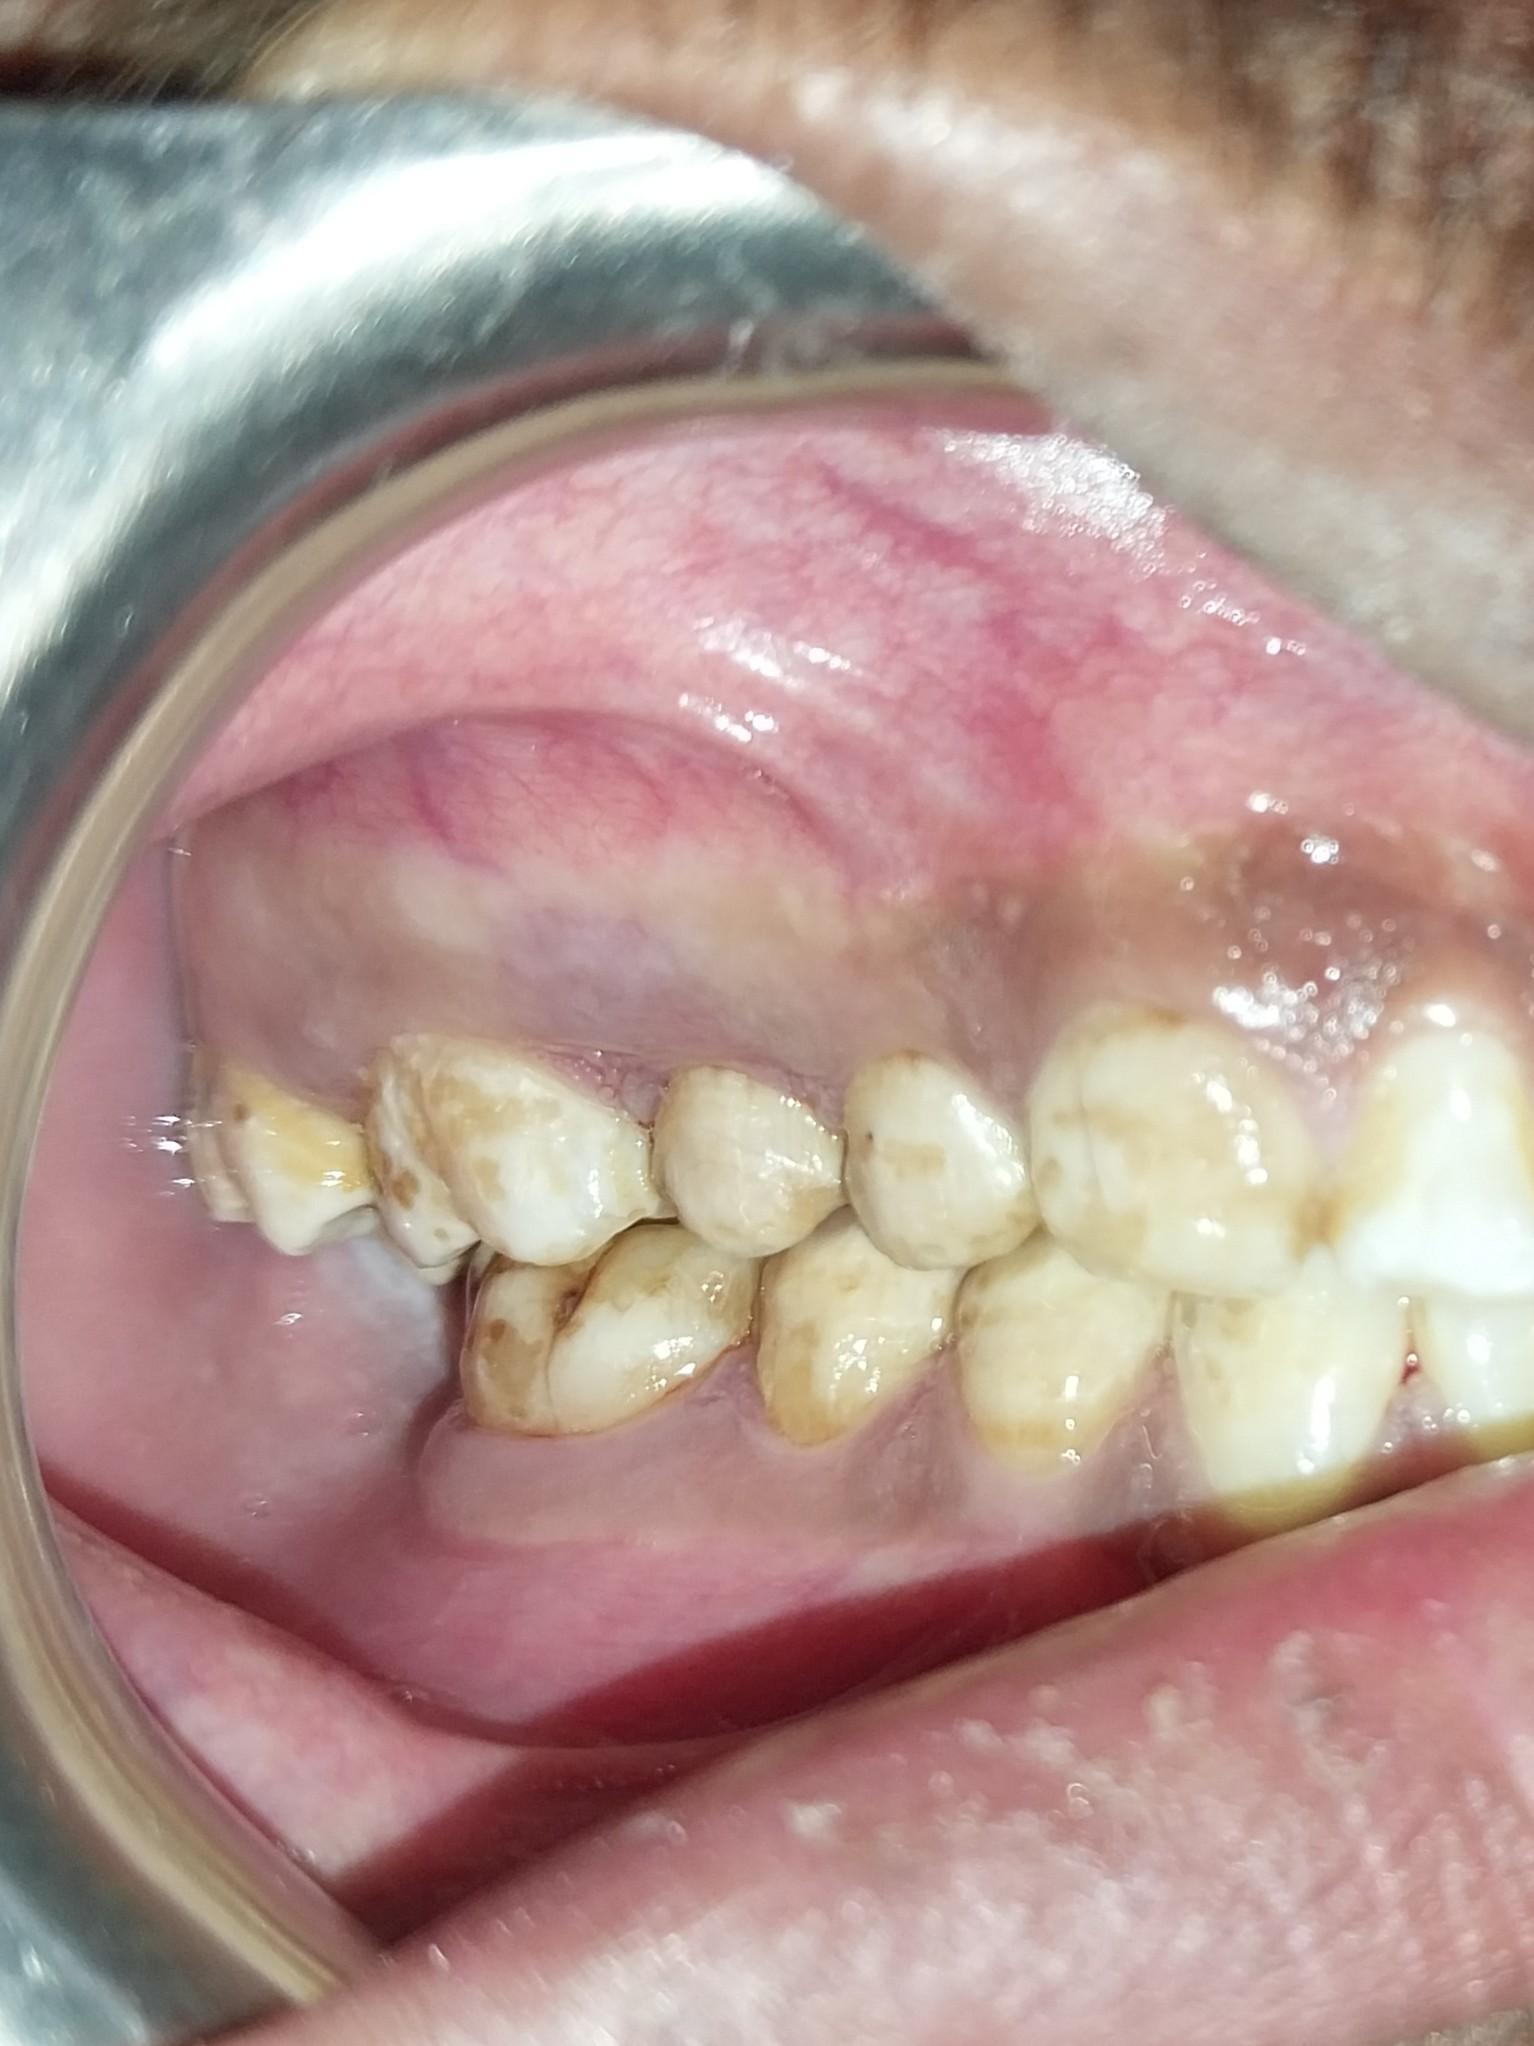D: (408, 1223, 766, 1443)
